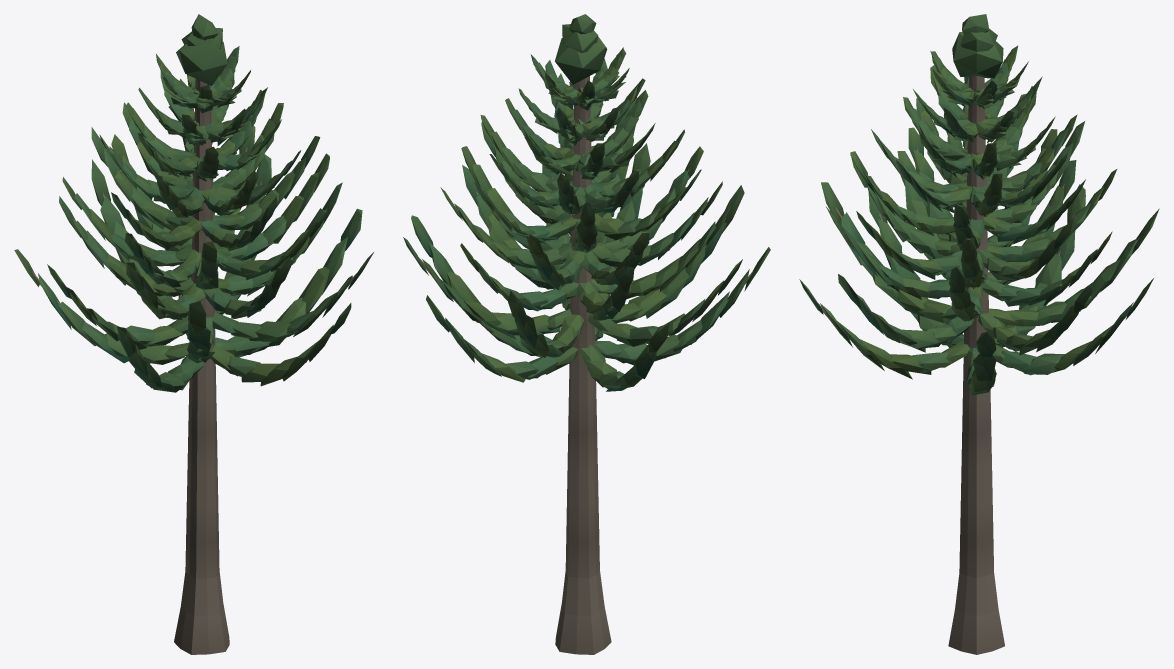
File: araucaria_a.glb
3 views of the same model, side by side, from view 1: azimuth 30°, elevation 25°; view 2: azimuth 150°, elevation 25°; view 3: azimuth 270°, elevation 25° (orthographic).
Parts seen in each view (by area): view 1: araucaria_a; view 2: araucaria_a; view 3: araucaria_a.
Boxes of the visible parts, x1,y1,x2,y2 form: araucaria_a: (14,14,373,654); araucaria_a: (403,14,770,654); araucaria_a: (799,14,1159,654).
Size of the model in its own units: 7.09 by 13.15 by 6.84.
